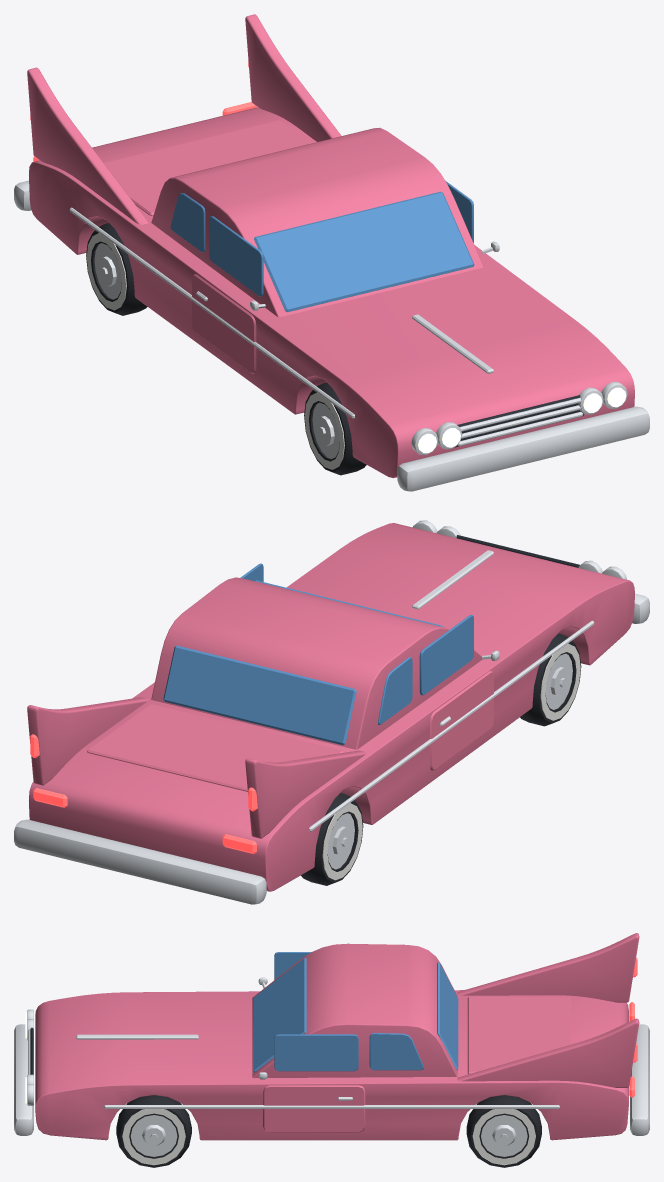
File: carro_rabo_de_peixe_rosa.glb
3 renders of one model, top to bottom at view 1: azimuth 30°, elevation 25°; view 2: azimuth 150°, elevation 25°; view 3: azimuth 270°, elevation 25°, orthographic. The views are drawn at different scales.
Parts seen in each view (by area): view 1: carro_rabo_de_peixe_rosa, porta_malas_1, porta_1, roda_1, roda_2; view 2: carro_rabo_de_peixe_rosa, porta_malas_1, porta_1, roda_2, roda_1; view 3: carro_rabo_de_peixe_rosa, porta_2, porta_malas_1, roda_3, roda_4, porta_1.
Part boxes in pixels (<box>): carro_rabo_de_peixe_rosa: <box>14,14,649,491</box>; porta_malas_1: <box>104,120,310,215</box>; porta_1: <box>192,216,263,373</box>; roda_1: <box>304,382,366,475</box>; roda_2: <box>86,223,147,315</box>; carro_rabo_de_peixe_rosa: <box>14,520,649,904</box>; porta_malas_1: <box>87,704,343,791</box>; porta_1: <box>419,615,493,770</box>; roda_2: <box>301,793,363,885</box>; roda_1: <box>520,633,581,726</box>; carro_rabo_de_peixe_rosa: <box>14,933,649,1140</box>; porta_2: <box>263,1034,365,1132</box>; porta_malas_1: <box>467,996,570,1074</box>; roda_3: <box>116,1095,191,1167</box>; roda_4: <box>466,1095,541,1167</box>; porta_1: <box>274,952,311,979</box>.
Bounding box in the file's own units: 2.06 × 1.46 × 5.72.
4 materials, 1 textured.
